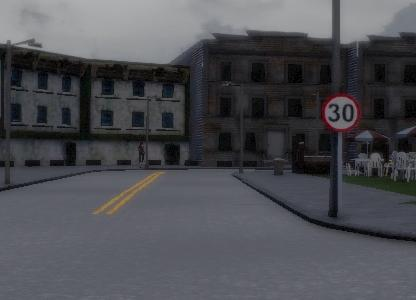Speed_30: (322, 93, 358, 134)
